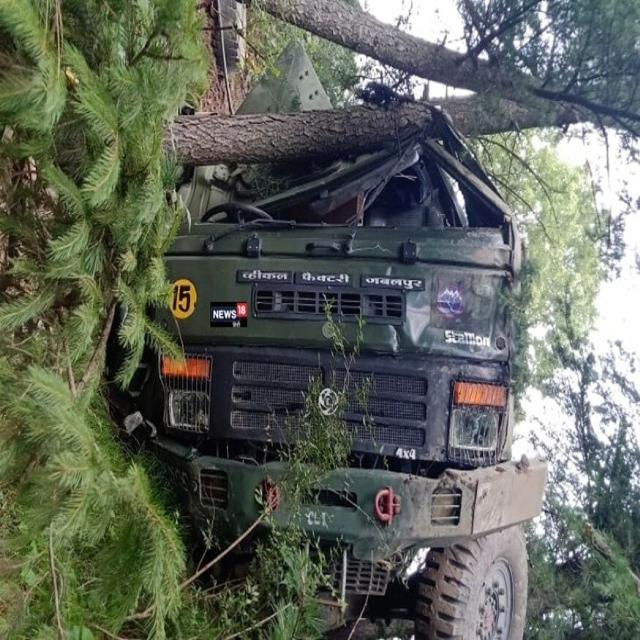accident: (111, 109, 548, 637)
